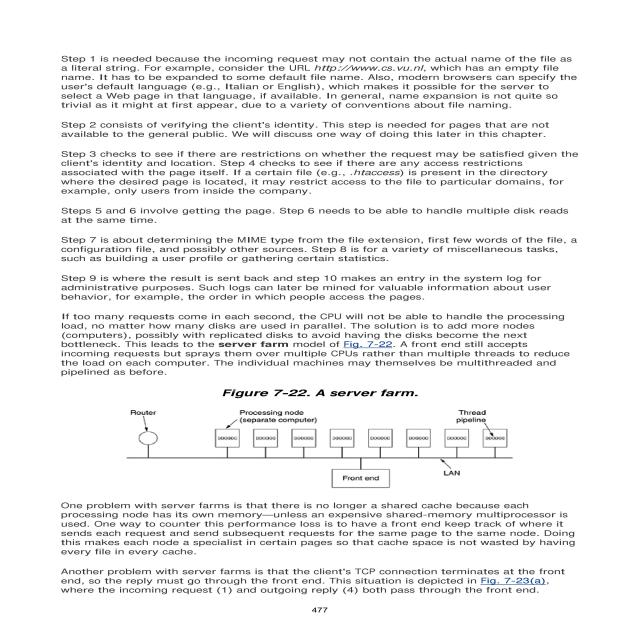diagram: (108, 383, 570, 494)
